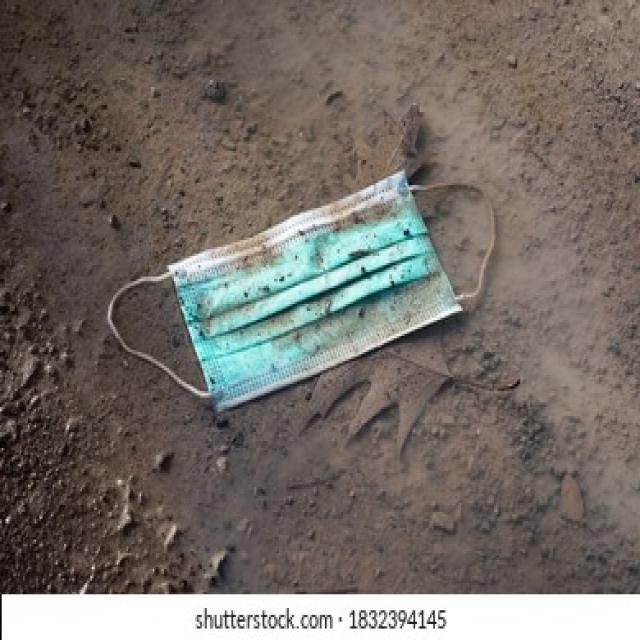non-organic waste: (107, 169, 494, 407)
